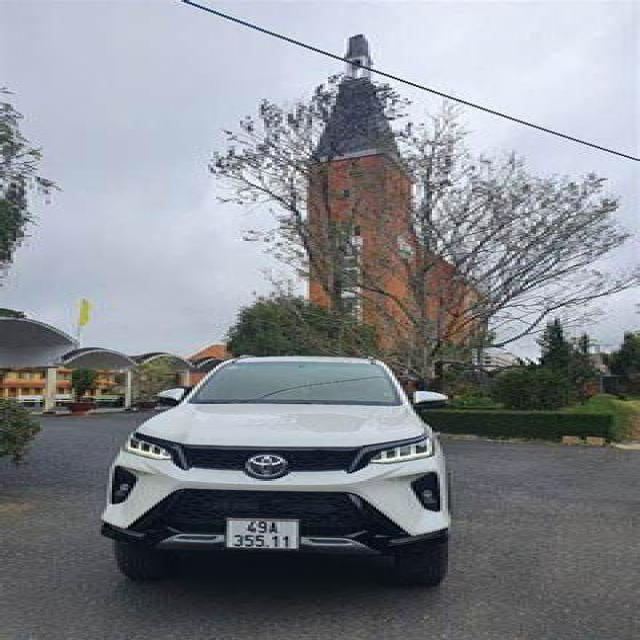car: (87, 307, 497, 615)
